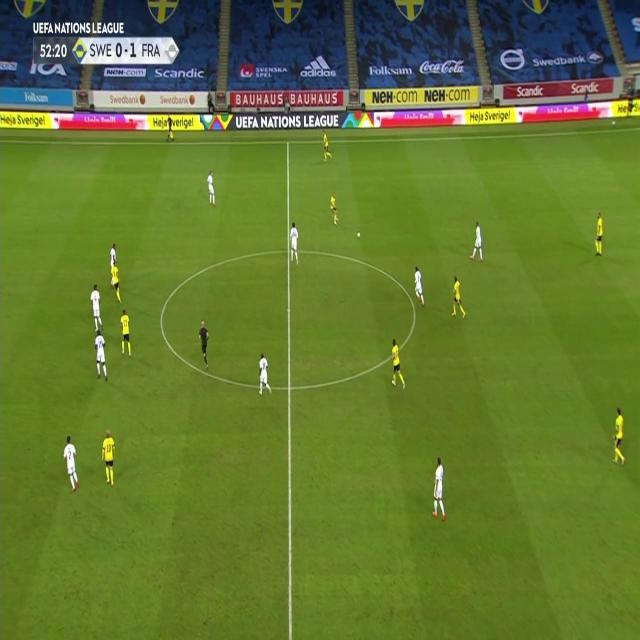ball: (356, 230, 360, 238)
player: (430, 455, 448, 521), (61, 433, 81, 491), (100, 427, 117, 486), (610, 406, 626, 466), (388, 337, 406, 387), (88, 282, 105, 332), (93, 329, 109, 382), (449, 274, 467, 319), (197, 318, 211, 371), (256, 351, 272, 396), (118, 308, 132, 356), (469, 220, 484, 262), (109, 257, 122, 304), (412, 265, 426, 306), (593, 210, 605, 256), (288, 220, 300, 264), (206, 170, 216, 206), (329, 191, 339, 225), (321, 131, 332, 161), (109, 242, 119, 272), (166, 115, 175, 141)
